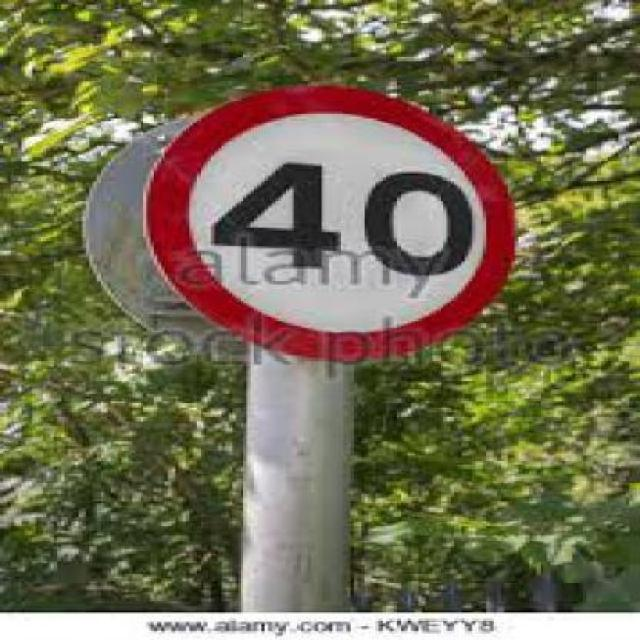forb_speed_over_40: (159, 86, 510, 354)
